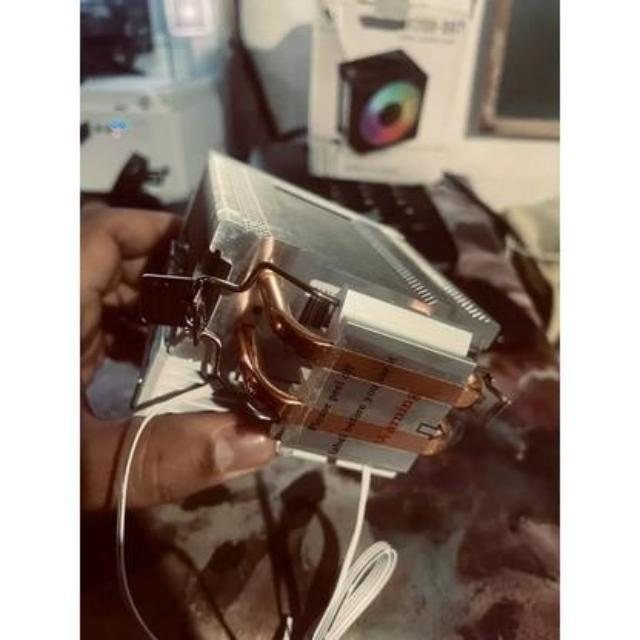CPU_Fan: (142, 149, 502, 497)
